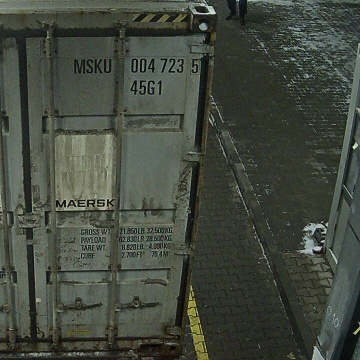serial_id: (74, 58, 199, 73)
